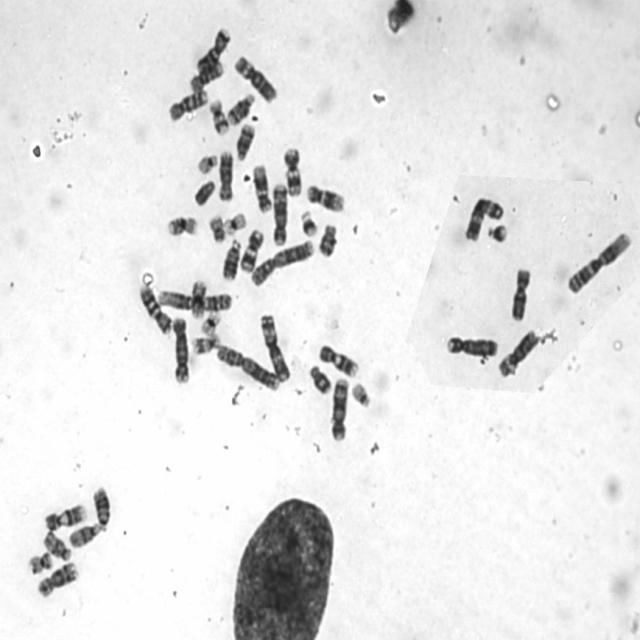A1: (564, 232, 632, 298), (158, 288, 234, 314)
A2: (250, 238, 316, 289), (216, 343, 282, 393)
A3: (258, 314, 292, 384), (464, 196, 506, 242)
B4: (171, 314, 191, 385), (445, 336, 499, 357)
B5: (269, 184, 290, 248), (330, 377, 350, 442)
C10: (167, 89, 209, 123), (188, 60, 224, 94)
C11: (239, 228, 264, 274), (283, 146, 303, 198)
C12: (306, 183, 346, 214), (252, 163, 272, 214)
C6: (234, 54, 278, 105), (498, 328, 541, 378)
C7: (138, 282, 172, 336), (195, 27, 231, 75)
C8: (37, 561, 79, 598), (218, 149, 233, 202)
C9: (317, 343, 360, 376), (44, 502, 86, 532)
D13: (91, 484, 111, 532), (222, 238, 242, 284)
D14: (227, 92, 257, 127), (235, 124, 255, 162)
D15: (41, 529, 72, 562), (69, 524, 103, 548)
E16: (166, 215, 203, 240), (190, 279, 208, 321)
E17: (209, 99, 229, 138), (191, 334, 221, 356)
E18: (308, 363, 332, 395), (318, 224, 338, 258)
F19: (222, 212, 247, 239), (200, 310, 223, 337)
F20: (27, 549, 54, 577), (208, 214, 227, 243)
G21: (485, 222, 509, 245), (299, 210, 318, 238)
G22: (350, 381, 373, 409), (196, 153, 218, 176)
X: (508, 266, 533, 324)
Y: (192, 178, 218, 208)
